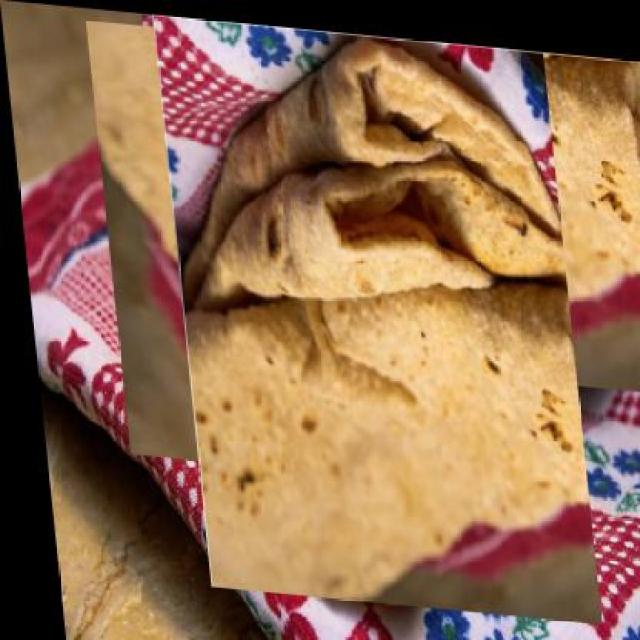chapati: (152, 12, 591, 614), (91, 12, 575, 494), (140, 11, 638, 384)
